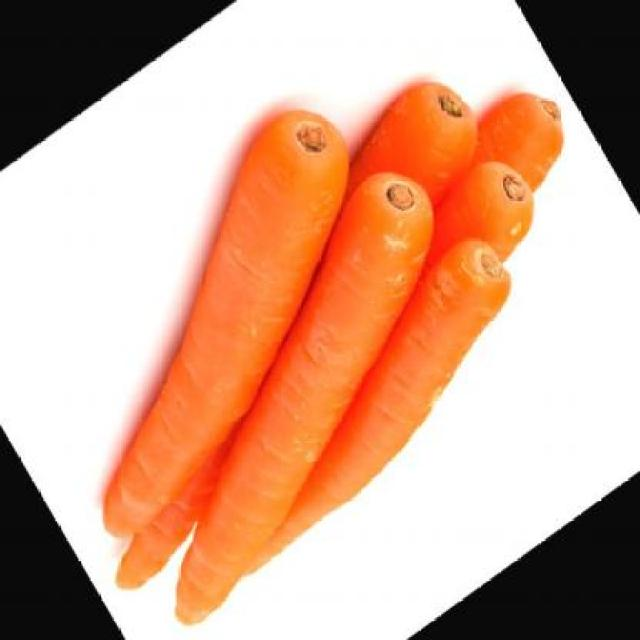carrot: (49, 149, 534, 634), (0, 89, 443, 548), (167, 226, 555, 582), (316, 64, 499, 250), (383, 141, 555, 317), (453, 75, 584, 216)
